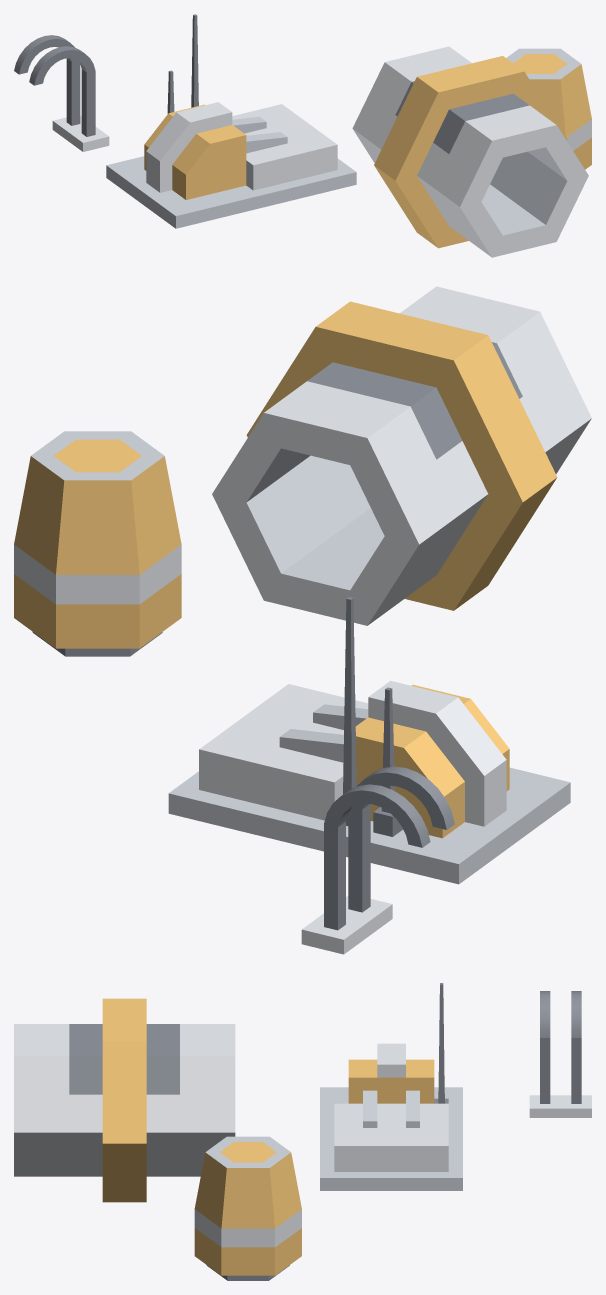
Rendered from lab_lvl2.glb.
3 views of the same model, one above another, from view 1: azimuth 30°, elevation 25°; view 2: azimuth 150°, elevation 25°; view 3: azimuth 270°, elevation 25° (orthographic). The views are drawn at different scales.
Visible parts, largest first — view 1: pipe_ring.001, machine_wireless.001, machine_barrel.001, cables.001; view 2: pipe_ring.001, machine_wireless.001, machine_barrel.001, cables.001; view 3: pipe_ring.001, machine_wireless.001, machine_barrel.001, cables.001.
Part boxes in pixels (<box>): pipe_ring.001: <box>352,46,588,257</box>; machine_wireless.001: <box>106,14,356,228</box>; machine_barrel.001: <box>506,48,591,169</box>; cables.001: <box>14,35,109,151</box>; pipe_ring.001: <box>212,286,591,625</box>; machine_wireless.001: <box>168,597,570,884</box>; machine_barrel.001: <box>14,431,181,656</box>; cables.001: <box>301,766,454,954</box>; pipe_ring.001: <box>14,998,235,1202</box>; machine_wireless.001: <box>320,983,462,1190</box>; machine_barrel.001: <box>194,1136,301,1280</box>; cables.001: <box>529,991,591,1117</box>.
Bounding box in the file's own units: 1.84 × 0.765 × 2.22.
